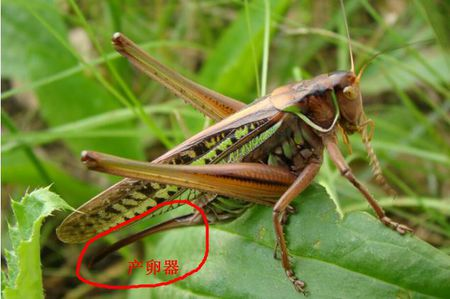huangchong: (55, 65, 391, 274)
